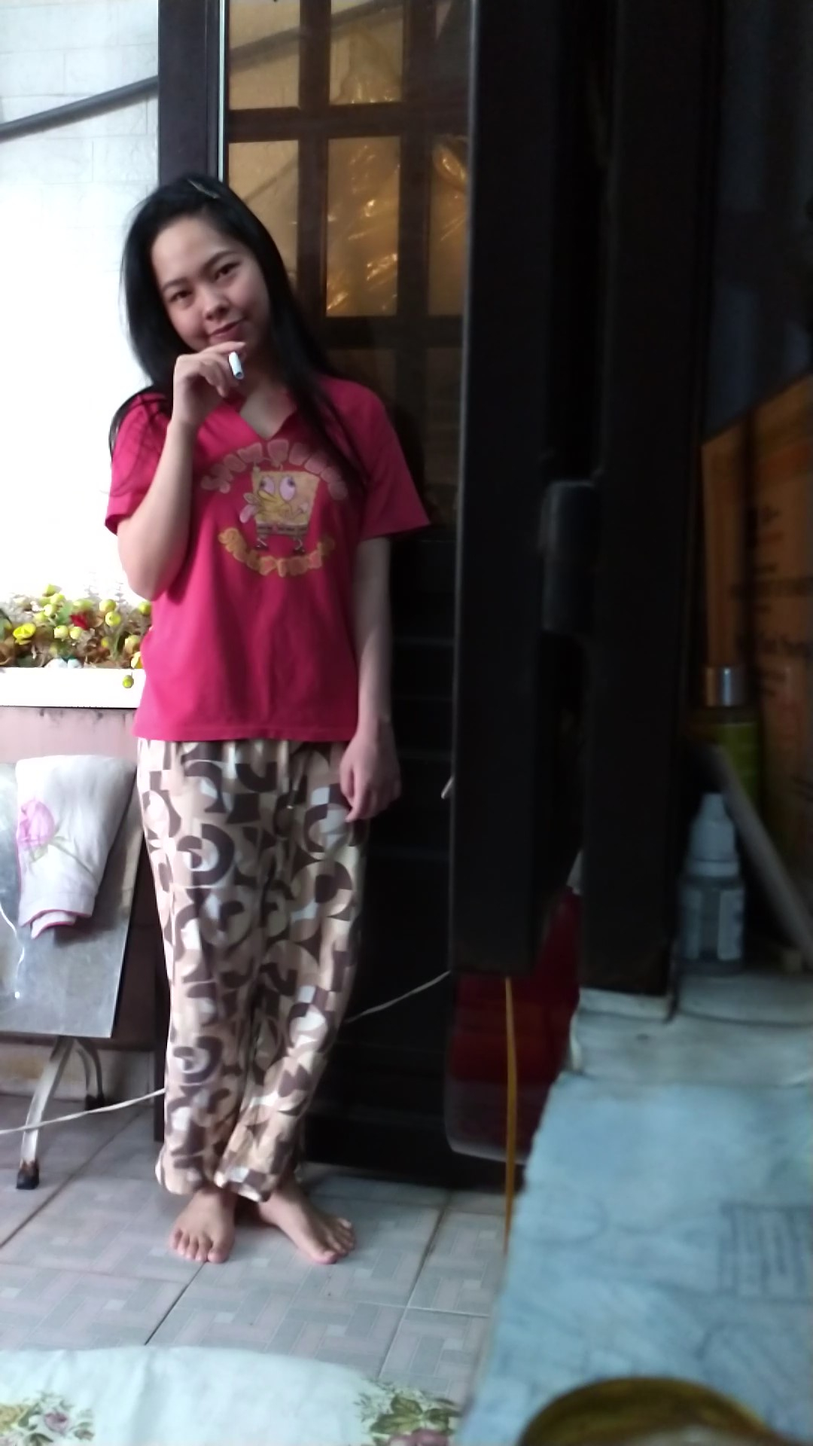cigarette: (224, 350, 248, 385)
person: (111, 116, 421, 1326)
